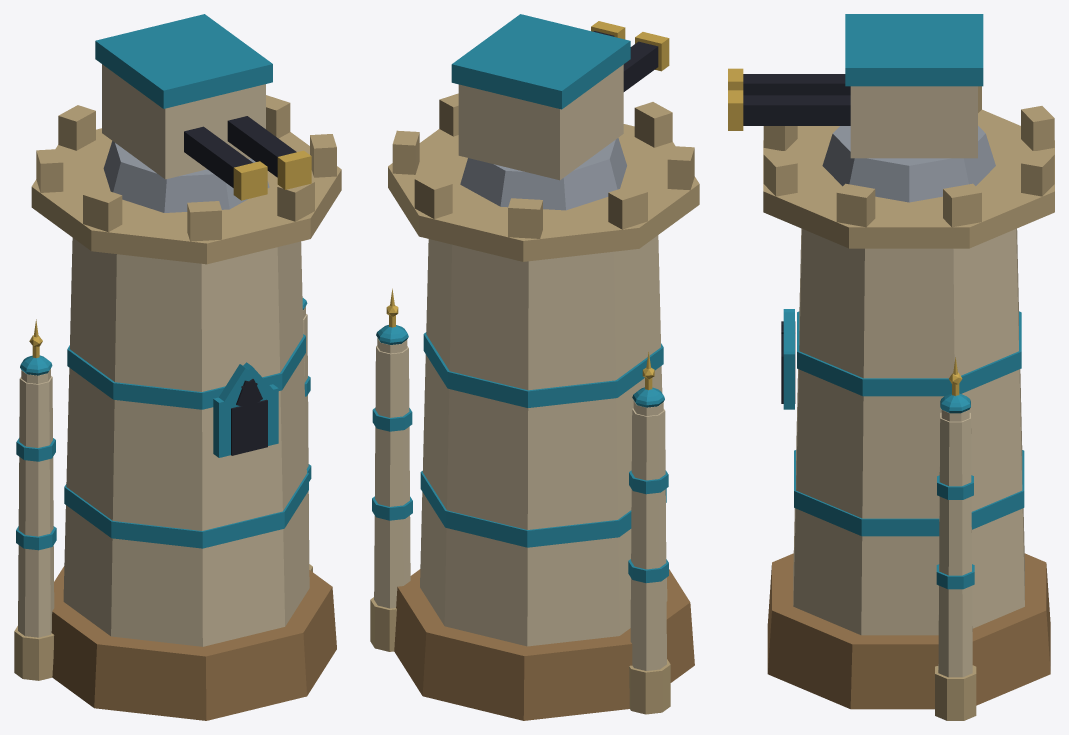
File: tower_t3.glb
3 renders of one model, left to right at view 1: azimuth 30°, elevation 25°; view 2: azimuth 150°, elevation 25°; view 3: azimuth 270°, elevation 25°, orthographic.
Visible parts, largest first — view 1: body, part_turret; view 2: body, part_turret; view 3: body, part_turret.
Boxes of the visible parts, <box> form: body: <box>14,95,341,720</box>; part_turret: <box>95,14,311,212</box>; body: <box>370,93,699,720</box>; part_turret: <box>451,14,669,210</box>; body: <box>763,86,1054,720</box>; part_turret: <box>728,14,995,202</box>.
Bounding box in the file's own units: 1.46 × 2.89 × 1.41.
